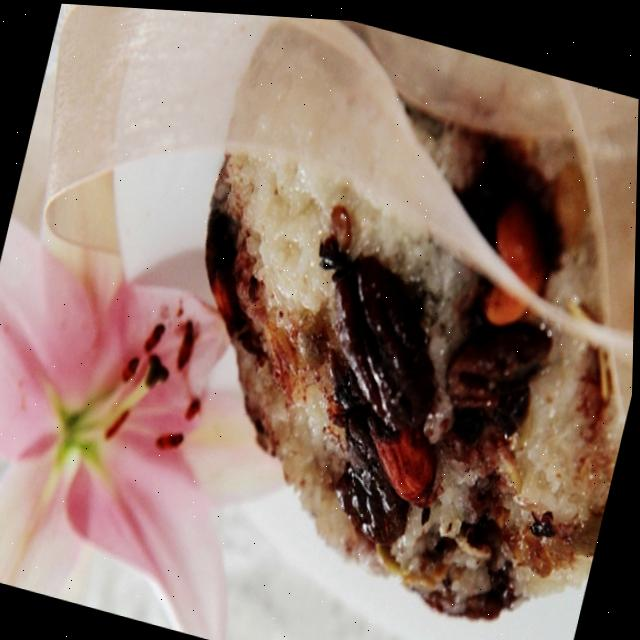米饭主食: (122, 6, 640, 622)
